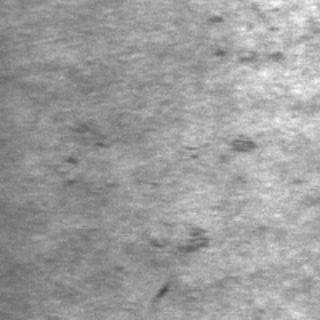rolled pit: (203, 2, 305, 58), (56, 117, 114, 195), (142, 213, 208, 259)
